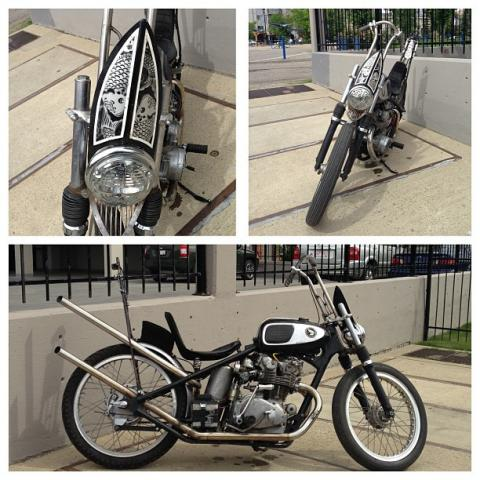car: (291, 243, 404, 281), (144, 246, 200, 285), (389, 253, 457, 274), (236, 245, 259, 281)
motorcycle: (57, 257, 426, 469), (61, 5, 184, 238), (306, 19, 419, 225)
